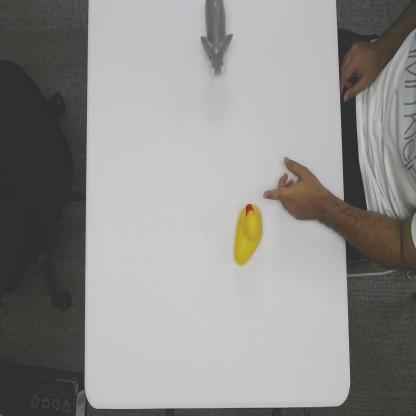Arm: (333, 181, 416, 281)
Duck: (232, 199, 263, 269)
Elephant: (199, 0, 233, 79)
Hand: (263, 155, 328, 226)
